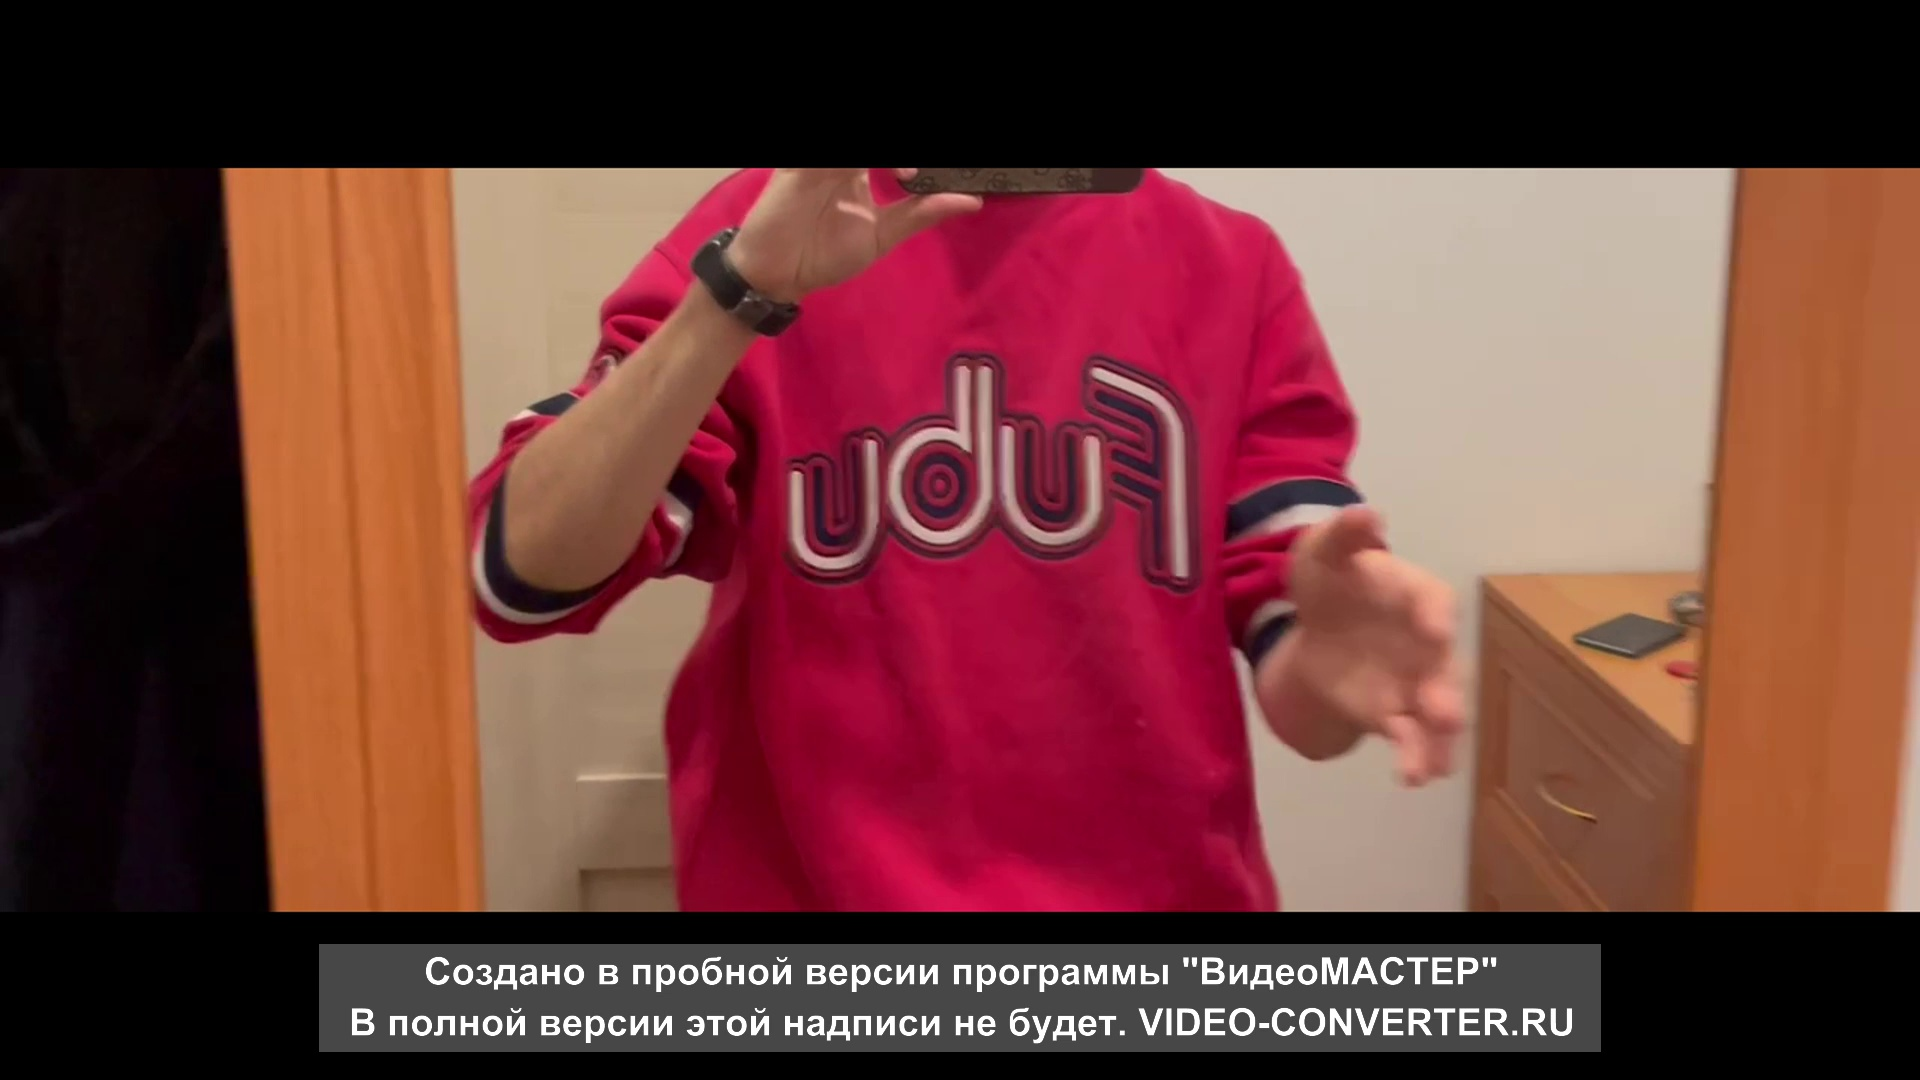Ладонь: (1288, 502, 1473, 789)
